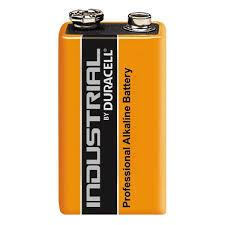9V Battery: (58, 9, 169, 216)
